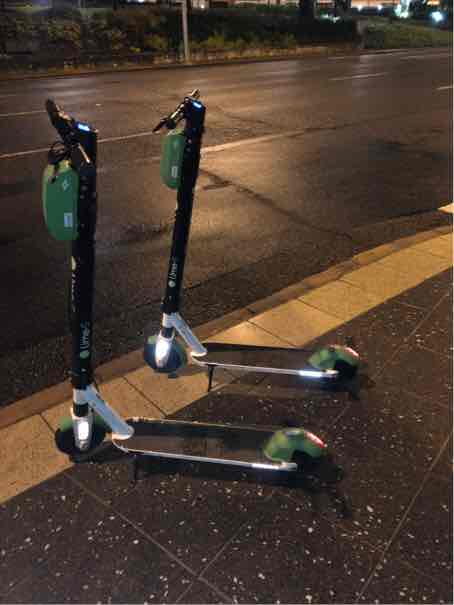too close: (119, 312, 213, 399)
